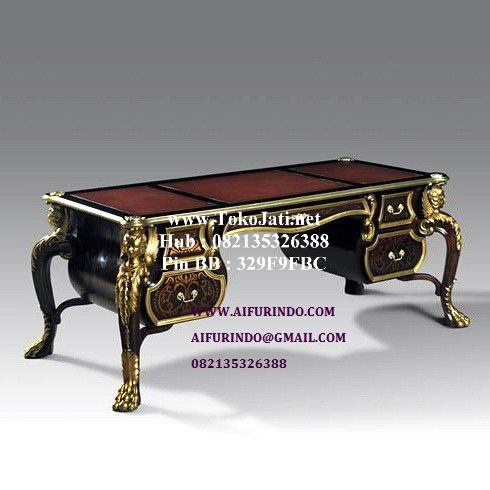Carving Table: (32, 159, 461, 411)
